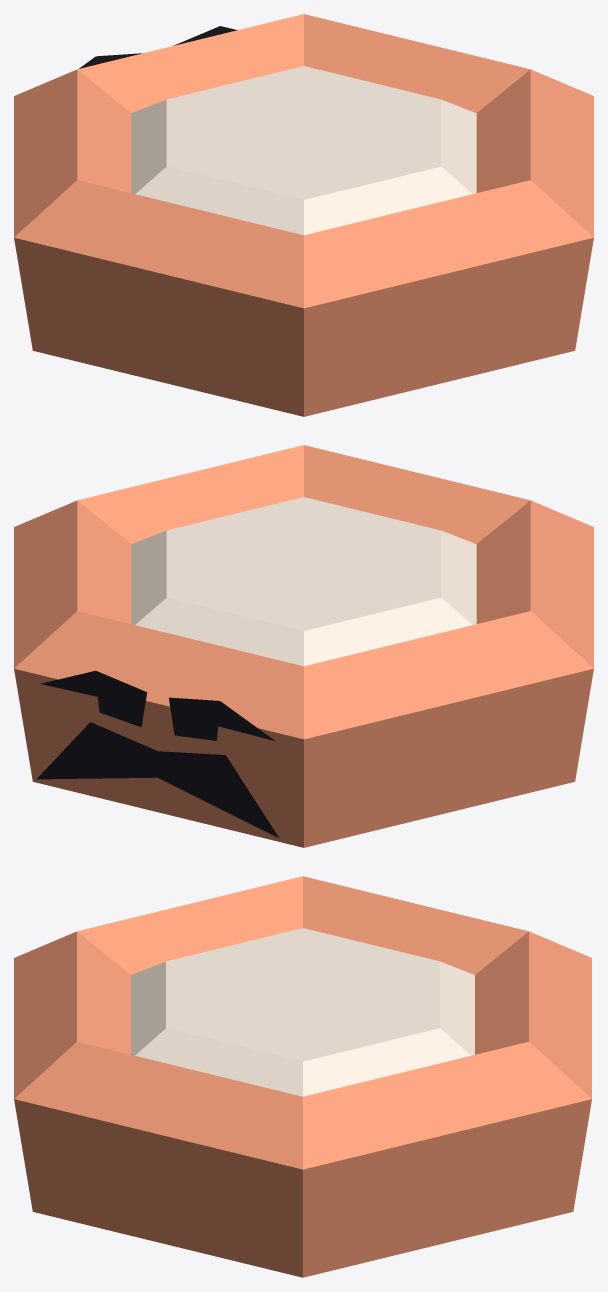
File: VatrushkaCheesecakeRare.fbx
The picture shows the model from 3 angles, top to bottom: view 1: azimuth 30°, elevation 25°; view 2: azimuth 150°, elevation 25°; view 3: azimuth 270°, elevation 25°; orthographic projection.
Parts seen in each view (by area): view 1: Vatrushka Cheesecake; view 2: Vatrushka Cheesecake; view 3: Vatrushka Cheesecake.
Part boxes in pixels (bbox=[...]): Vatrushka Cheesecake: bbox=[14, 14, 593, 416]; Vatrushka Cheesecake: bbox=[14, 445, 593, 847]; Vatrushka Cheesecake: bbox=[14, 876, 591, 1277].
Bounding box in the file's own units: 61.13 × 16.1 × 53.11.
